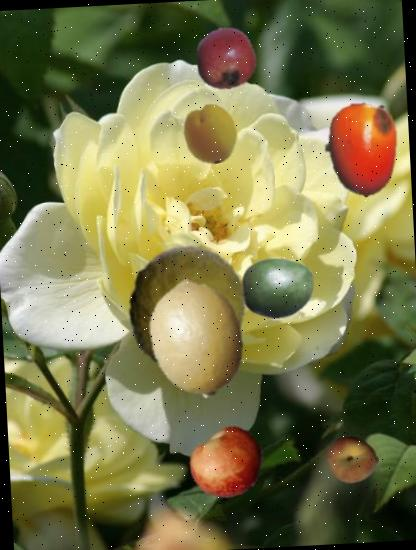Guava: (118, 240, 255, 376)
Kaki: (311, 99, 411, 199)
Lemon: (134, 274, 260, 402)
Mango: (238, 248, 318, 328)
Nectarine: (189, 423, 268, 502)
Peach: (179, 102, 243, 166), (326, 431, 380, 486)
Pomegranate: (193, 26, 259, 92)
